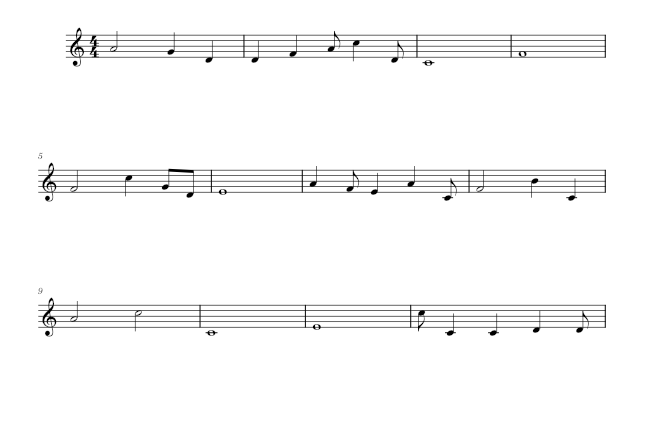Treble Clef: (64, 23, 88, 73), (41, 161, 60, 208), (41, 296, 60, 339)
